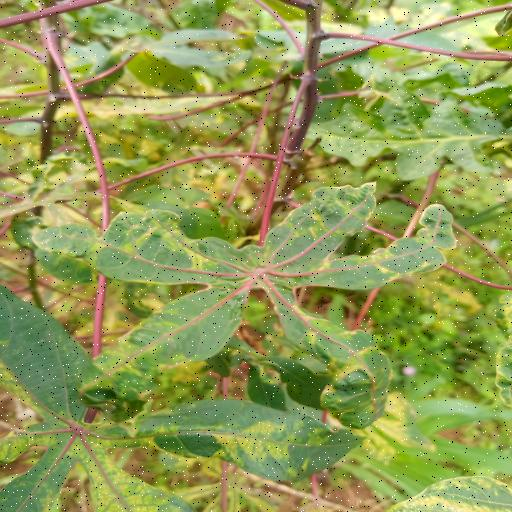Cassava_Mosaic: (0, 281, 364, 512), (94, 179, 466, 401)
